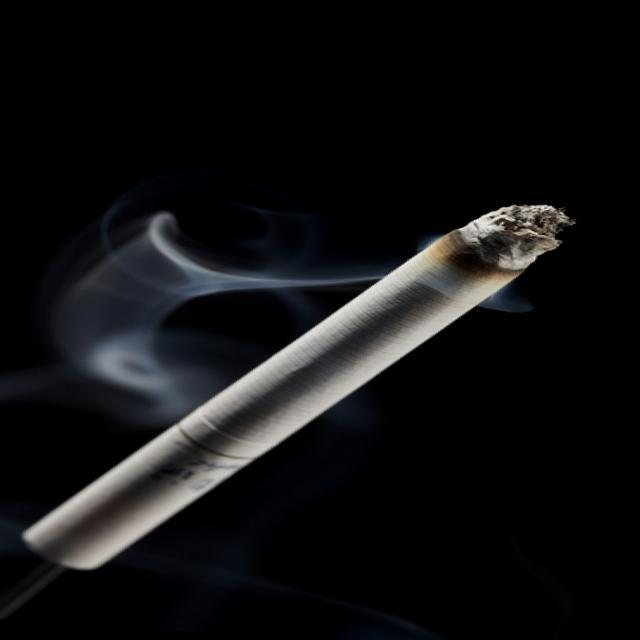cigarette: (0, 160, 591, 604)
